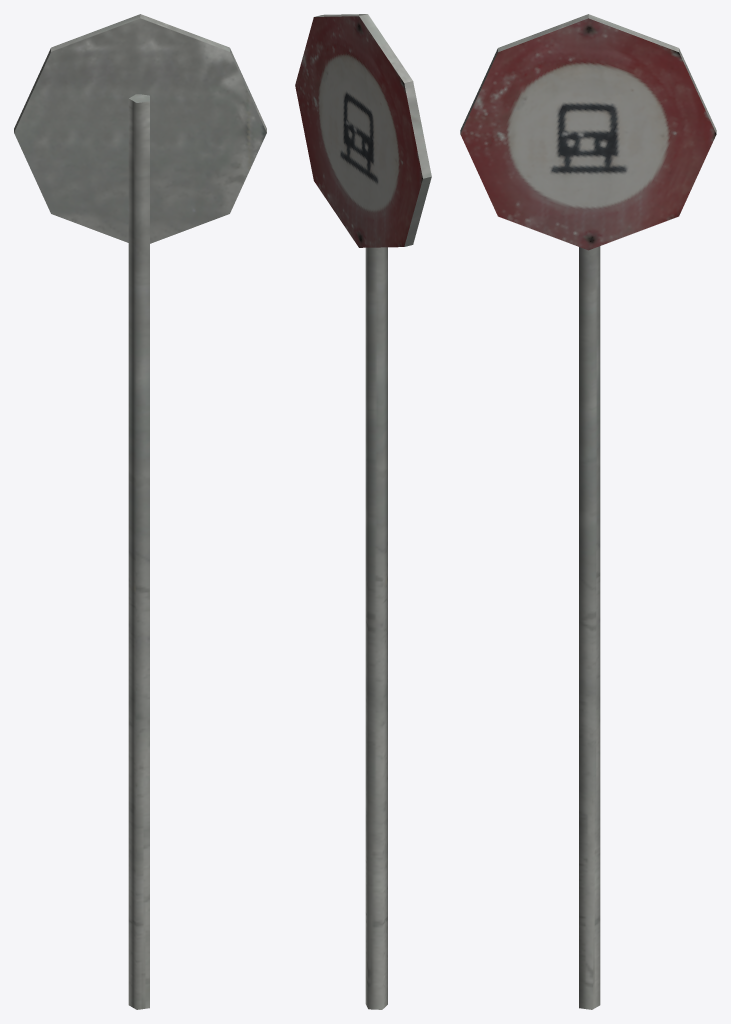
The model's file is bus_stop_sign_02.glb.
3 views of the same model, side by side, from view 1: azimuth 90°, elevation 25°; view 2: azimuth 210°, elevation 25°; view 3: azimuth 270°, elevation 25° (orthographic).
Visible parts, largest first — view 1: Bus_stop_sign_02; view 2: Bus_stop_sign_02; view 3: Bus_stop_sign_02.
Part boxes in pixels (x1=…): Bus_stop_sign_02: x1=14, y1=14, x2=266, y2=1009; Bus_stop_sign_02: x1=295, y1=14, x2=431, y2=1009; Bus_stop_sign_02: x1=460, y1=14, x2=716, y2=1009.
Bounding box in the file's own units: 0.082 × 2.88 × 0.6719.
Materials: 1 (1 with a texture image).
